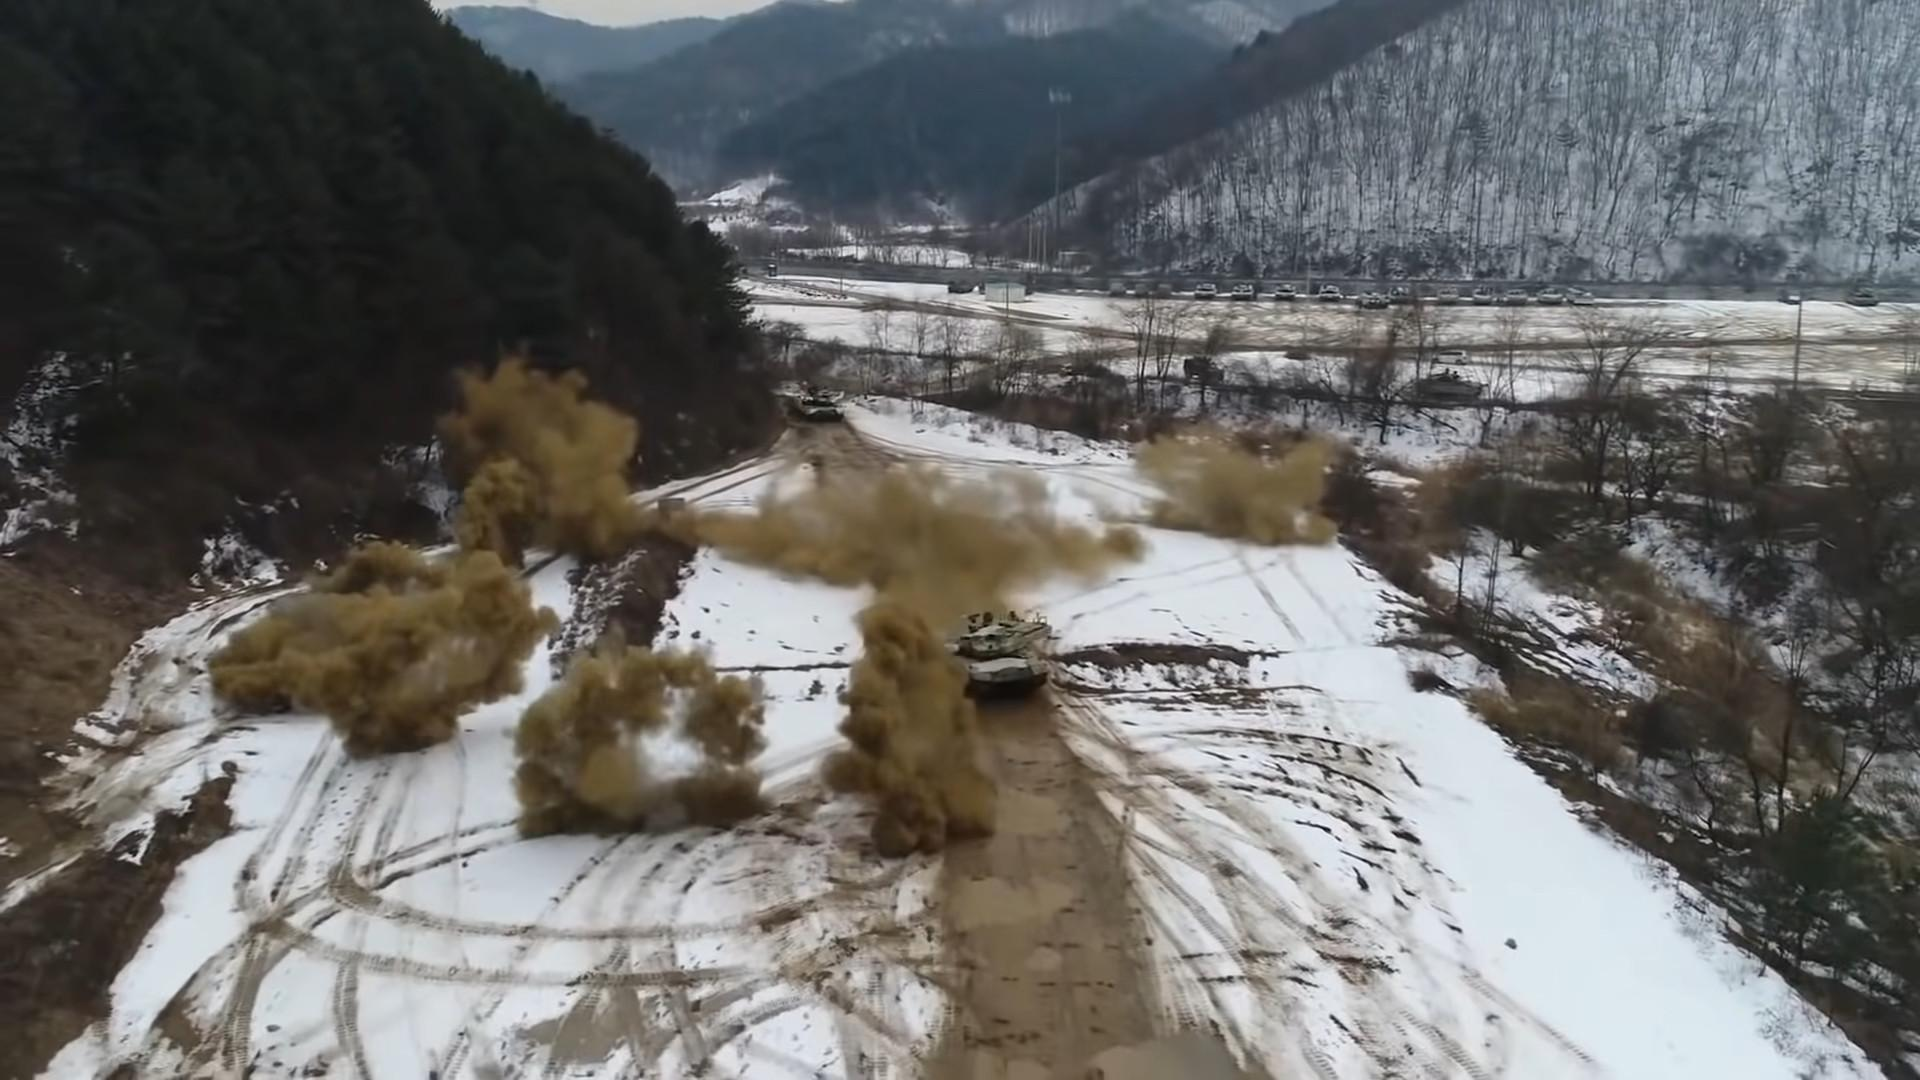tank: (942, 609, 1052, 696)
